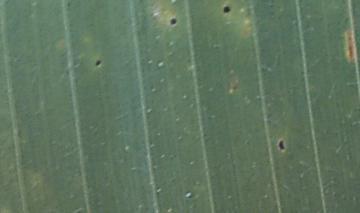tarspot: (278, 140, 285, 152), (94, 59, 102, 68), (169, 17, 177, 26), (223, 5, 230, 13)
